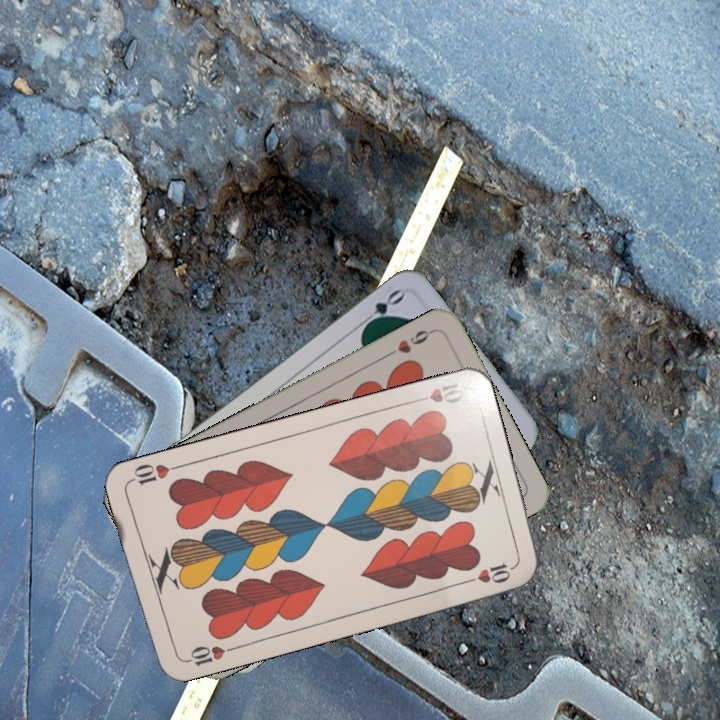GO: (355, 285, 407, 333)
H10: (408, 376, 467, 406), (178, 641, 237, 669)
H9: (382, 325, 437, 360)
